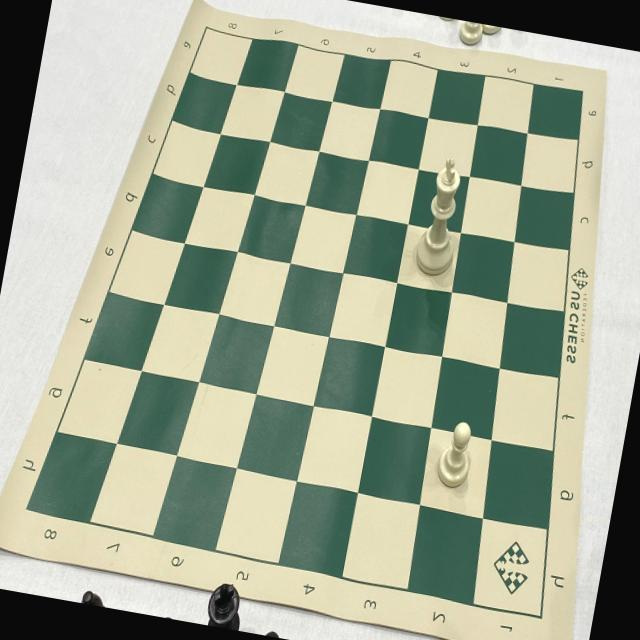white-king: (408, 148, 474, 283)
white-pawn: (428, 409, 485, 498)
